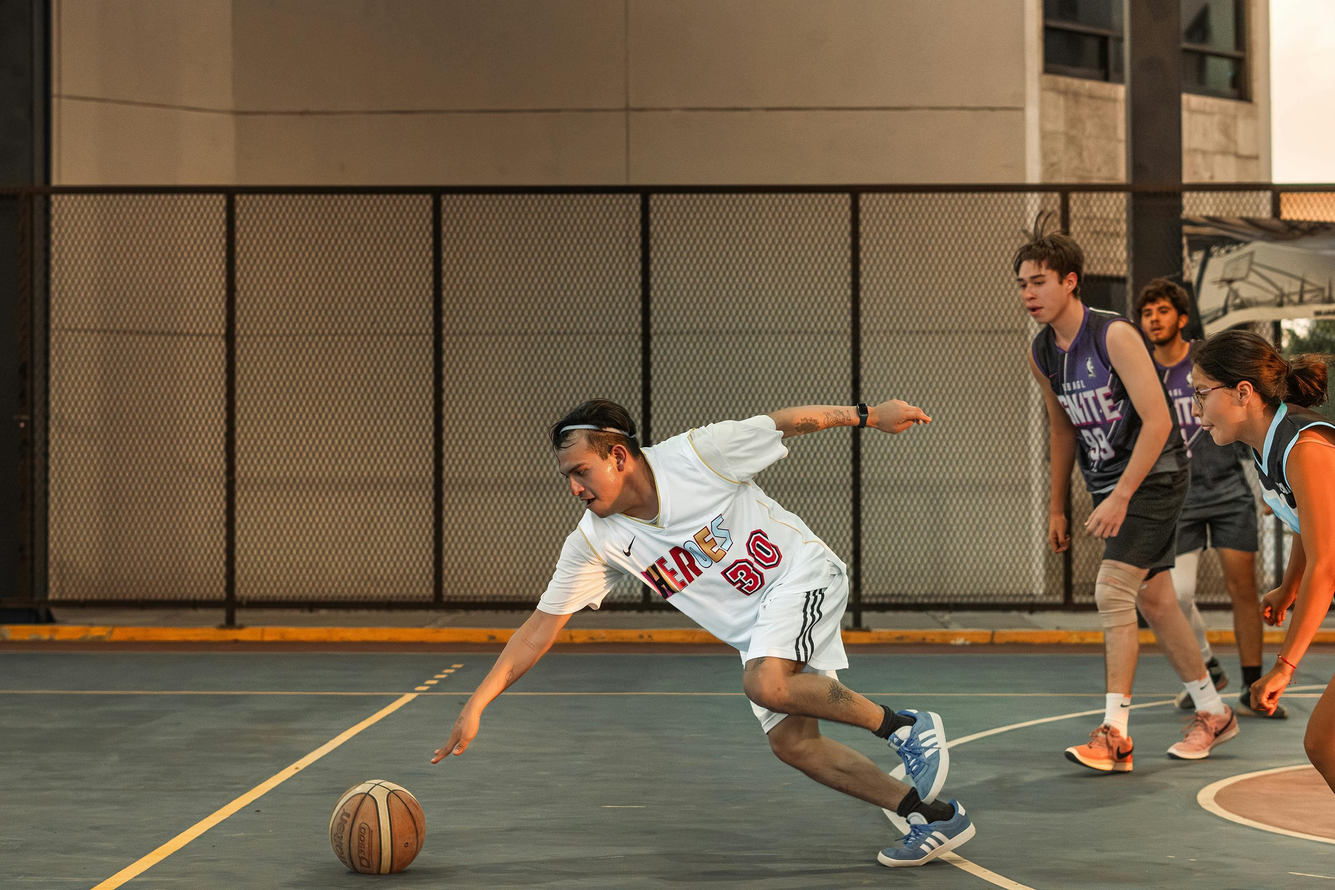basketball: (329, 775, 427, 876)
